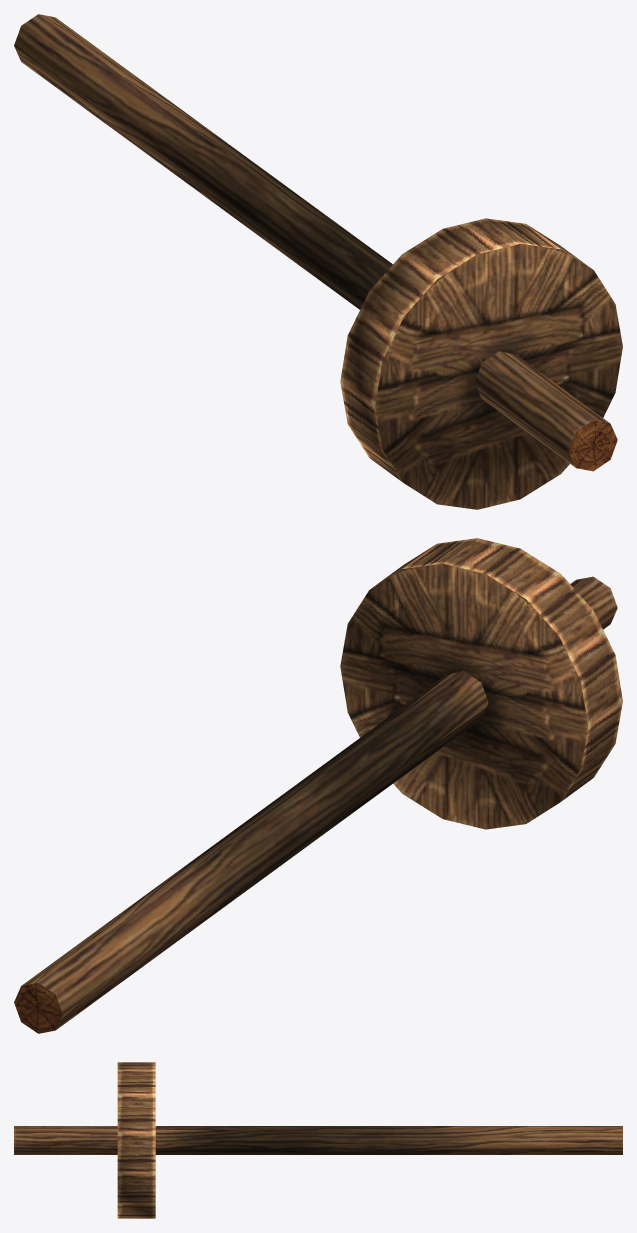
File: INST_SWORDLIGHT_DRUMB.obj
3 renders of one model, top to bottom at view 1: azimuth 30°, elevation 25°; view 2: azimuth 150°, elevation 25°; view 3: azimuth 270°, elevation 25°, orthographic. The views are drawn at different scales.
Parts seen in each view (by area): view 1: t_DrumB_Lod1_01, mBShaft_Lod1_01; view 2: t_DrumB_Lod1_01, mBShaft_Lod1_01; view 3: mBShaft_Lod1_01, t_DrumB_Lod1_01.
Part boxes in pixels (x1,y1,x2,y2): t_DrumB_Lod1_01: (340,218,622,509); mBShaft_Lod1_01: (14,14,617,471); t_DrumB_Lod1_01: (340,538,622,829); mBShaft_Lod1_01: (14,576,617,1033); mBShaft_Lod1_01: (14,1126,622,1154); t_DrumB_Lod1_01: (117,1062,155,1218).
Bounding box in the file's own units: 254 × 250 × 985.
